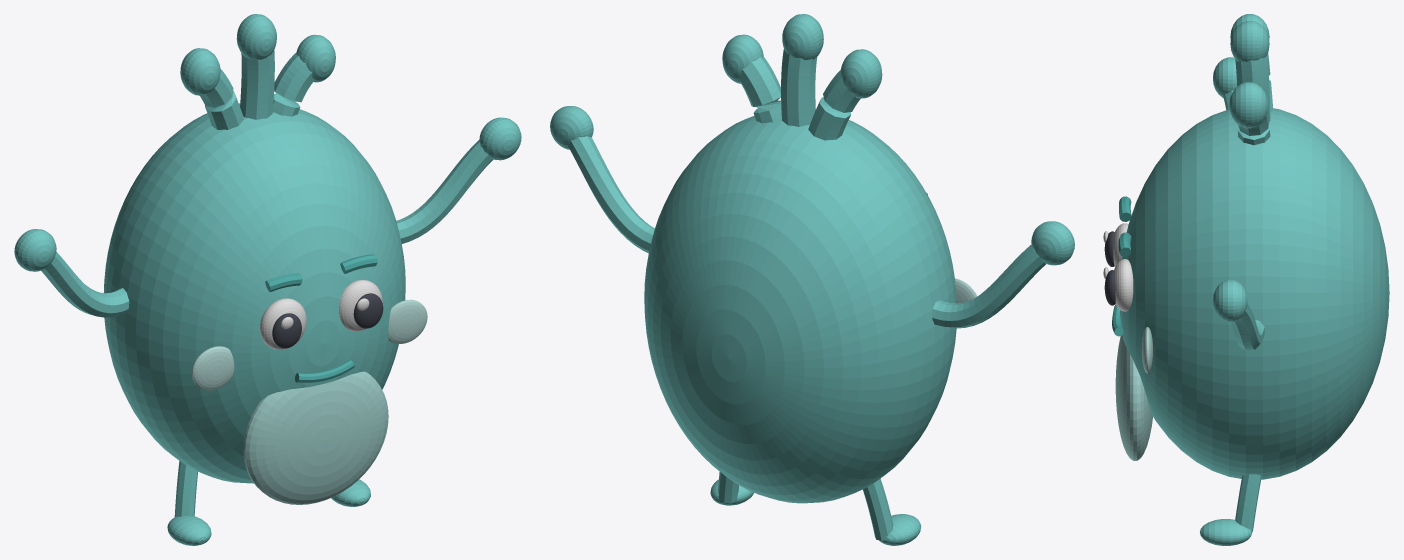
Rendered from BumbleNum_Teal.glb.
The picture shows the model from 3 angles, left to right: view 1: azimuth 30°, elevation 25°; view 2: azimuth 150°, elevation 25°; view 3: azimuth 270°, elevation 25°; orthographic projection. The views are drawn at different scales.
Parts seen in each view (by area): view 1: BumbleNum_Teal; view 2: BumbleNum_Teal; view 3: BumbleNum_Teal.
Part boxes in pixels (x1=…): BumbleNum_Teal: x1=14, y1=14, x2=521, y2=545; BumbleNum_Teal: x1=550, y1=14, x2=1074, y2=545; BumbleNum_Teal: x1=1103, y1=14, x2=1389, y2=545.
Size of the model in its own units: 2.58 by 2.44 by 1.31.
